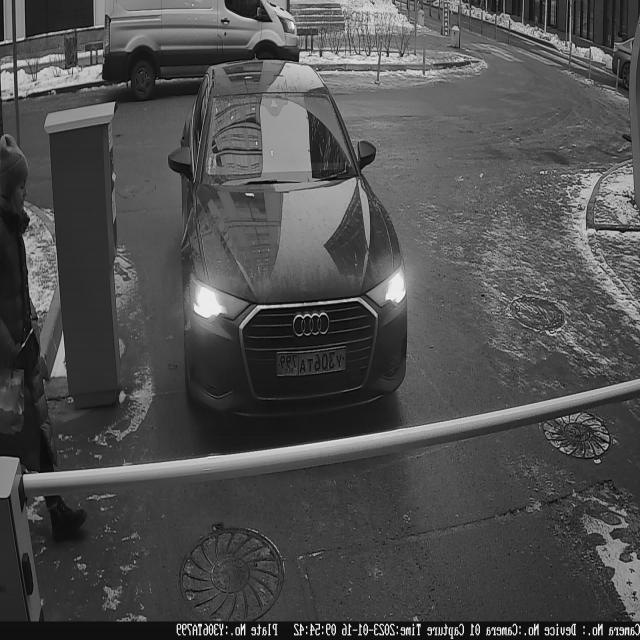car-plate-numbers: (274, 340, 351, 383)
